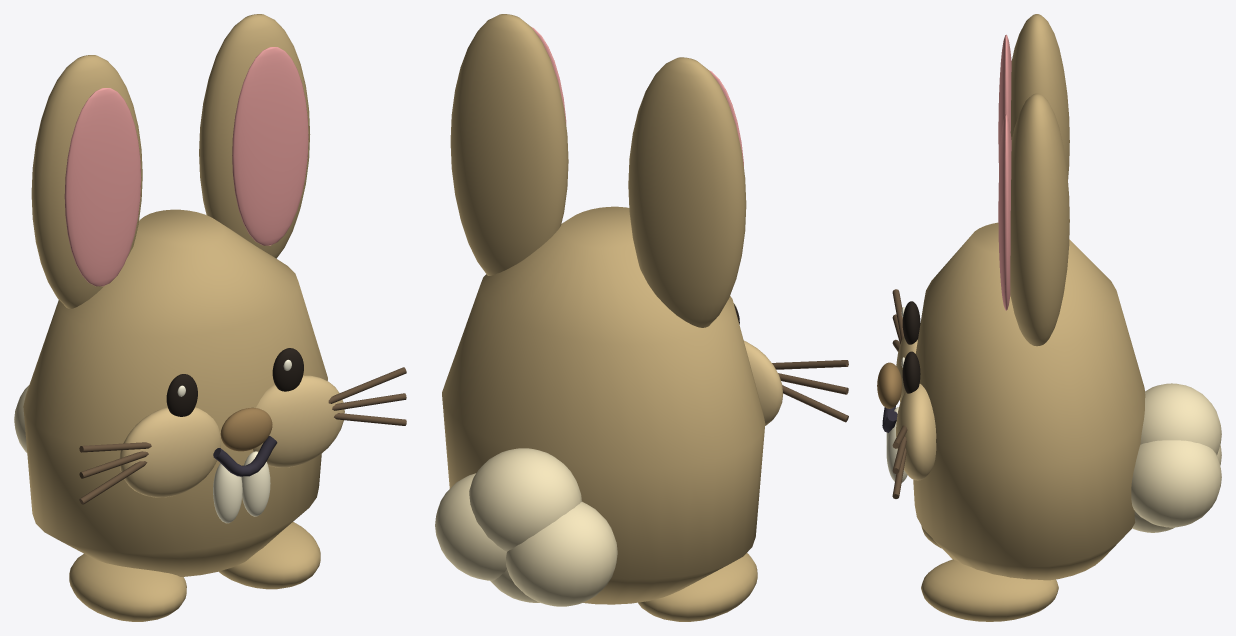
The model's file is niblet.glb.
The picture shows the model from 3 angles, left to right: view 1: azimuth 30°, elevation 25°; view 2: azimuth 150°, elevation 25°; view 3: azimuth 270°, elevation 25°; orthographic projection. The views are drawn at different scales.
Parts seen in each view (by area): view 1: surface_518, form_524, form_520, form_519, form_523, form_522, form_521, form_526, form_525, form_531, form_532, form_533 (+6 smaller); view 2: surface_518, form_519, form_523, form_542, form_544, form_543, form_521, form_522, curve_537, curve_535, form_541; view 3: surface_518, form_523, form_543, form_525, form_519, form_544, form_526, form_524, form_520, form_531, form_527, form_529.
Part boxes in pixels (x1=…): surface_518: x1=23, y1=209, x2=327, y2=576; form_524: x1=232, y1=47, x2=308, y2=245; form_520: x1=64, y1=88, x2=141, y2=286; form_519: x1=31, y1=55, x2=142, y2=308; form_523: x1=199, y1=14, x2=310, y2=258; form_522: x1=119, y1=407, x2=220, y2=497; form_521: x1=69, y1=554, x2=186, y2=621; form_526: x1=253, y1=375, x2=344, y2=467; form_525: x1=219, y1=522, x2=320, y2=589; form_531: x1=220, y1=407, x2=272, y2=451; form_532: x1=213, y1=463, x2=242, y2=523; form_533: x1=241, y1=451, x2=270, y2=516; surface_518: x1=442, y1=206, x2=765, y2=604; form_519: x1=628, y1=57, x2=746, y2=327; form_523: x1=450, y1=14, x2=568, y2=275; form_542: x1=506, y1=501, x2=617, y2=606; form_544: x1=469, y1=448, x2=581, y2=551; form_543: x1=435, y1=473, x2=506, y2=580; form_521: x1=638, y1=553, x2=757, y2=621; form_522: x1=743, y1=340, x2=783, y2=425; curve_537: x1=772, y1=360, x2=848, y2=369; curve_535: x1=782, y1=385, x2=848, y2=422; form_541: x1=490, y1=569, x2=539, y2=602; surface_518: x1=913, y1=222, x2=1145, y2=580; form_523: x1=1010, y1=93, x2=1069, y2=346; form_543: x1=1131, y1=440, x2=1221, y2=527; form_525: x1=921, y1=559, x2=1058, y2=621; form_519: x1=1010, y1=14, x2=1069, y2=178; form_544: x1=1140, y1=383, x2=1221, y2=454; form_526: x1=896, y1=384, x2=936, y2=480; form_524: x1=998, y1=114, x2=1011, y2=310; form_520: x1=998, y1=34, x2=1011, y2=171; form_531: x1=877, y1=362, x2=902, y2=408; form_527: x1=902, y1=301, x2=920, y2=344; form_529: x1=902, y1=351, x2=920, y2=393.
Bounding box in the file's own units: 0.1261 × 0.2 × 0.1189.
